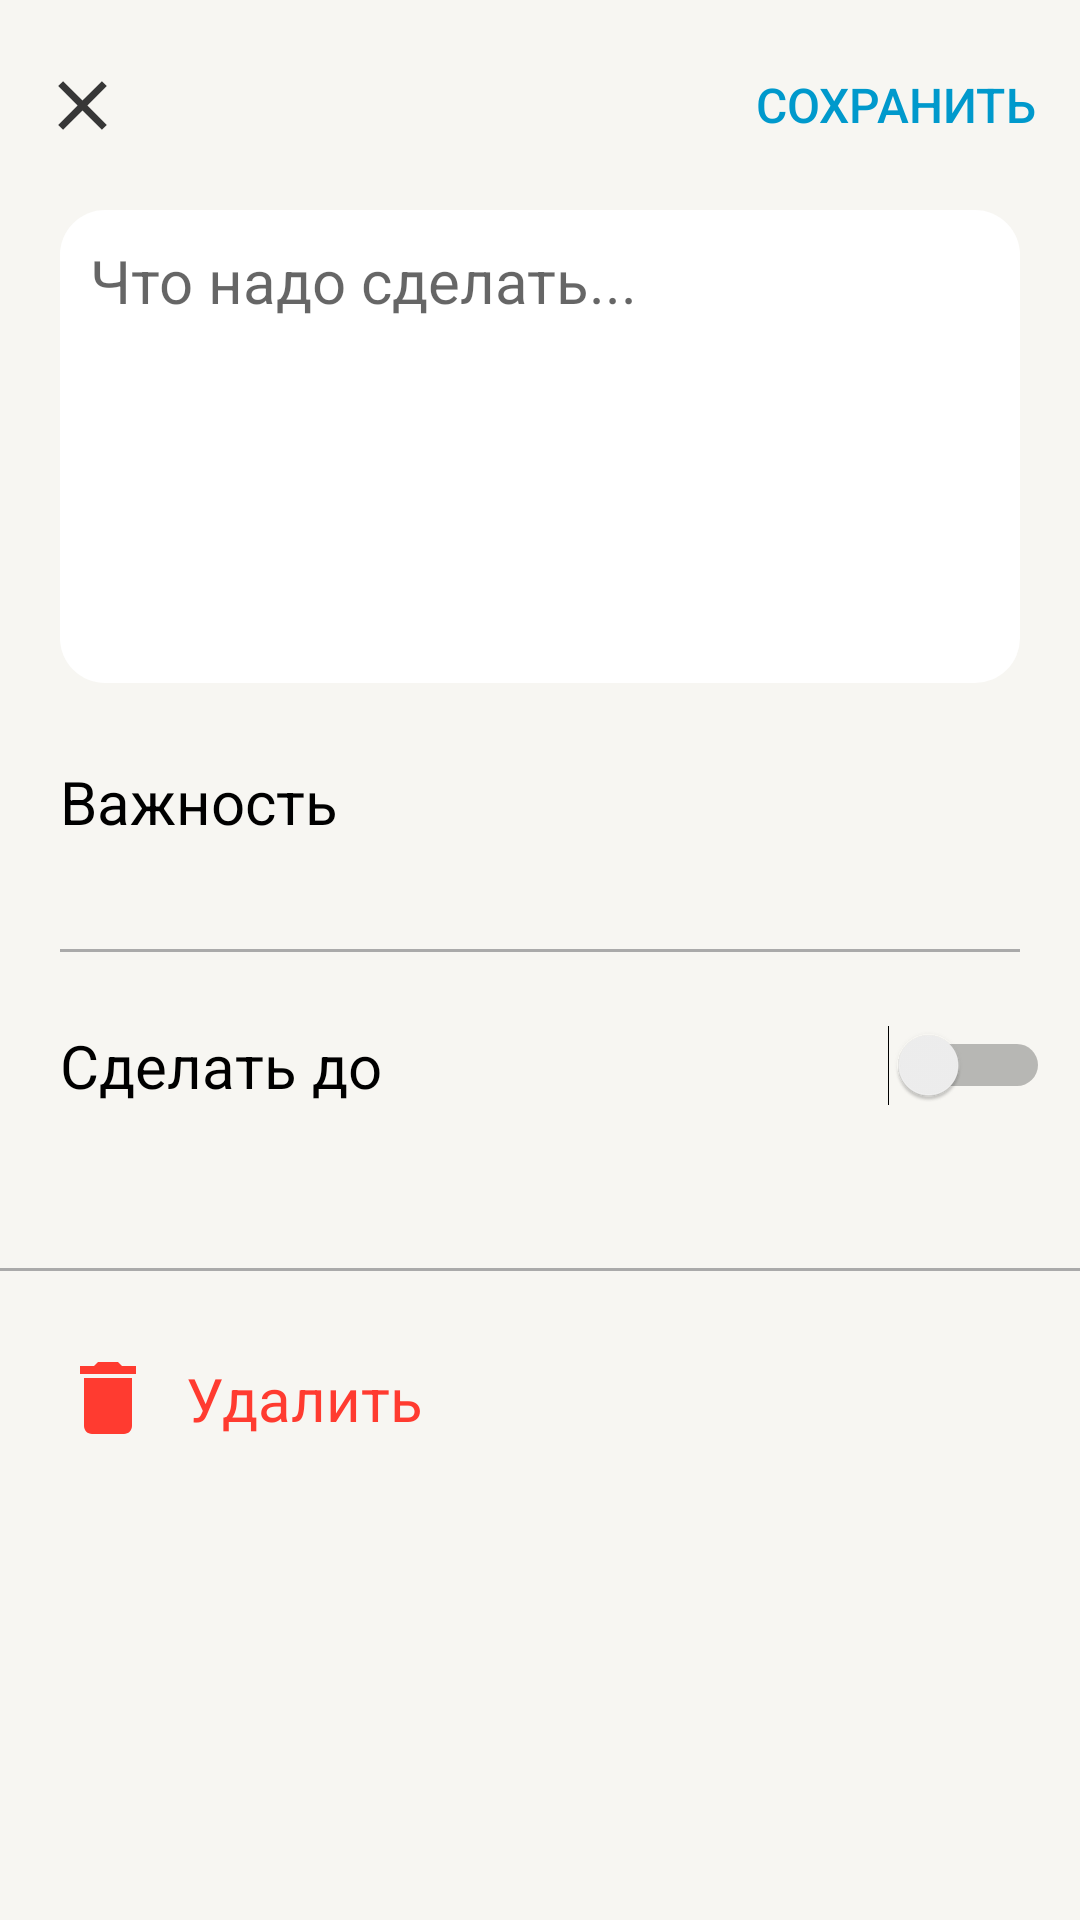

Named icons in this screenshot (1080 x 1920) and their centers, (x=x, y=y):
close: (x=82, y=105)
delete: (x=108, y=1398)
